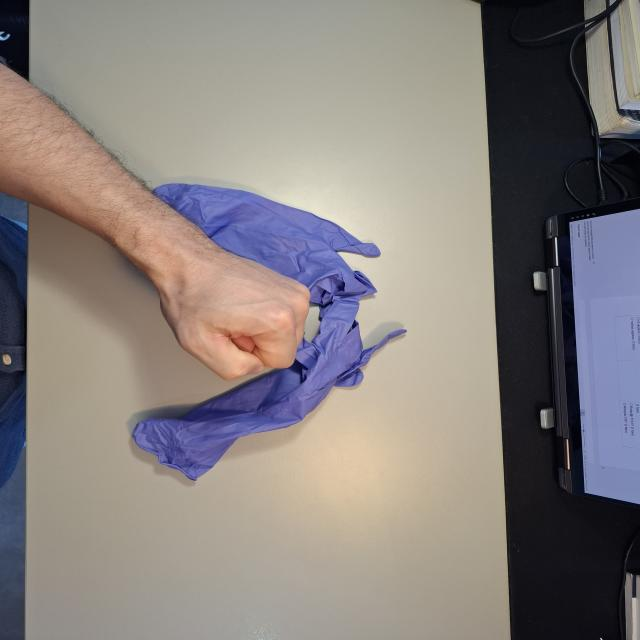glove_off: (148, 244, 314, 384)
